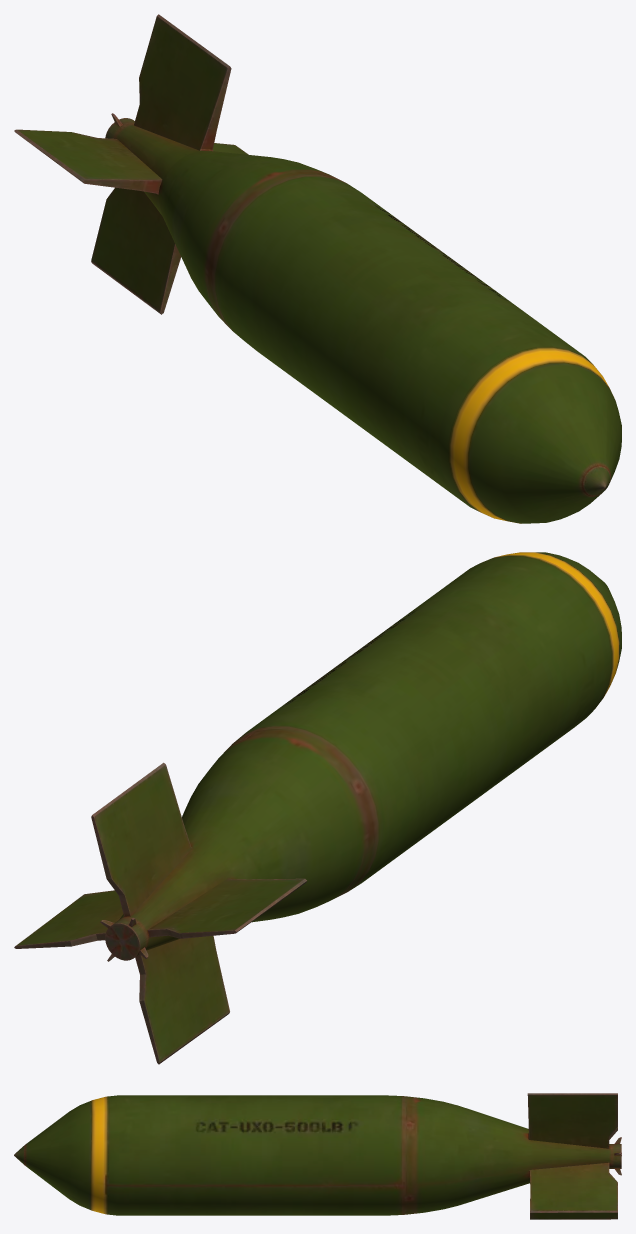
File: bomb.glb
The picture shows the model from 3 angles, top to bottom: view 1: azimuth 30°, elevation 25°; view 2: azimuth 150°, elevation 25°; view 3: azimuth 270°, elevation 25°; orthographic projection. The views are drawn at different scales.
Visible parts, largest first — view 1: Circle_Material_0; view 2: Circle_Material_0; view 3: Circle_Material_0.
Boxes of the visible parts, x1,y1,x2,y2 form: Circle_Material_0: [14, 14, 621, 523]; Circle_Material_0: [14, 552, 621, 1064]; Circle_Material_0: [14, 1093, 621, 1219].
Size of the model in its own units: 0.5896 by 0.5871 by 2.2.
1 material, 1 textured.
